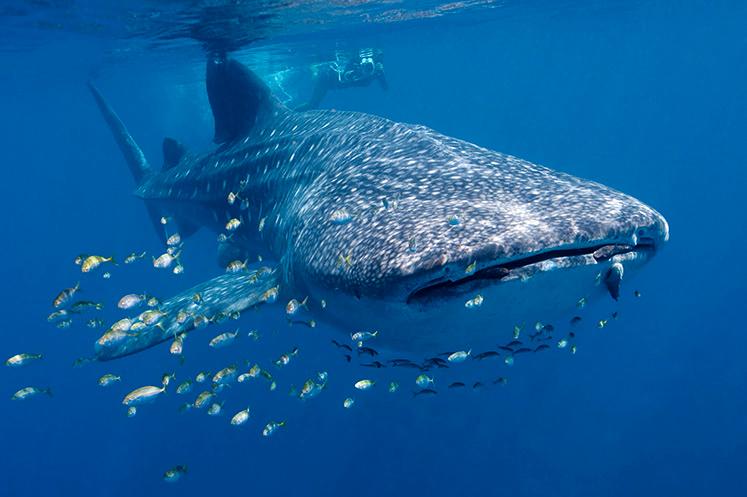Rhincodon_typusw: (74, 65, 688, 383)
